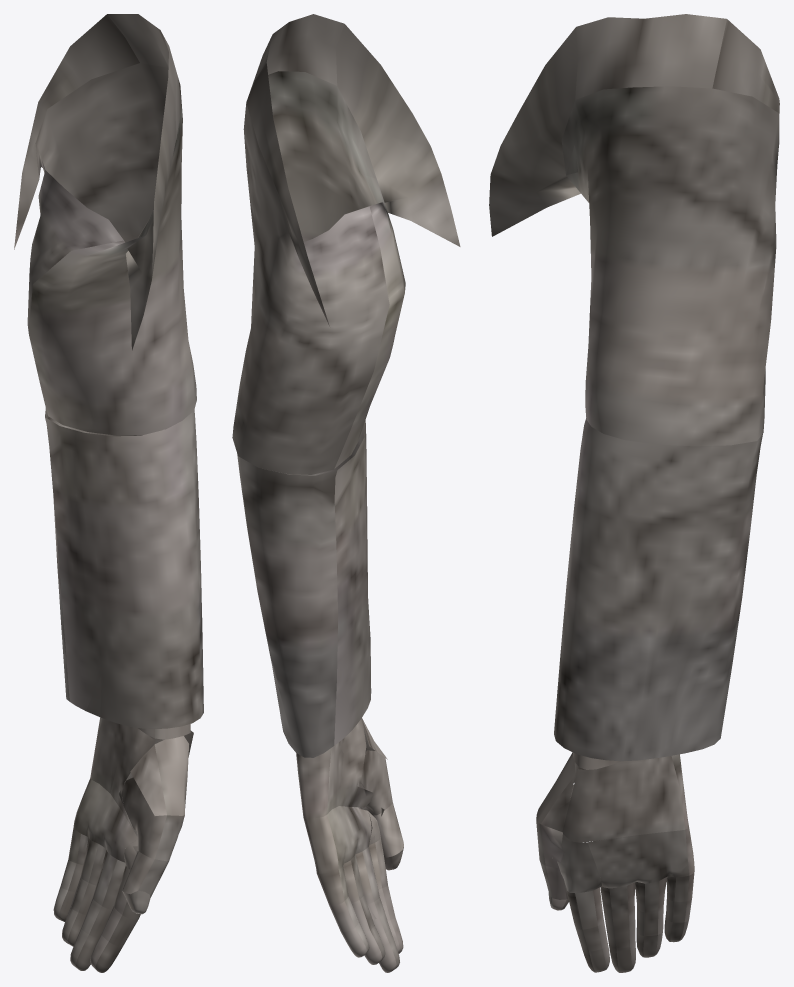
Rendered from soldierleftarm.fbx.
3 views of the same model, side by side, from view 1: azimuth 30°, elevation 25°; view 2: azimuth 150°, elevation 25°; view 3: azimuth 270°, elevation 25° (orthographic). The views are drawn at different scales.
Parts seen in each view (by area): view 1: Wehrmacht_soldier:objlShldr1; view 2: Wehrmacht_soldier:objlShldr1; view 3: Wehrmacht_soldier:objlShldr1.
Part boxes in pixels (x1,y1,x2,y2): Wehrmacht_soldier:objlShldr1: (14, 14, 203, 972); Wehrmacht_soldier:objlShldr1: (232, 14, 460, 972); Wehrmacht_soldier:objlShldr1: (489, 14, 779, 972).
Size of the model in its own units: 0.8048 by 4.8 by 1.26.
